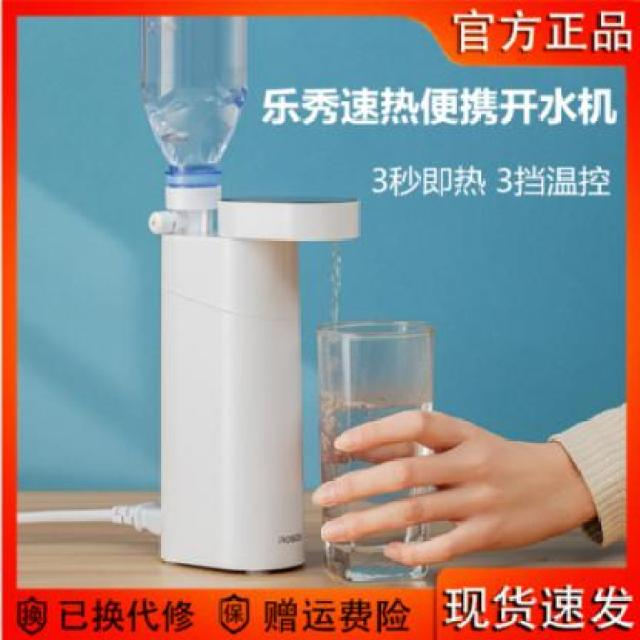cooler: (138, 17, 364, 578)
